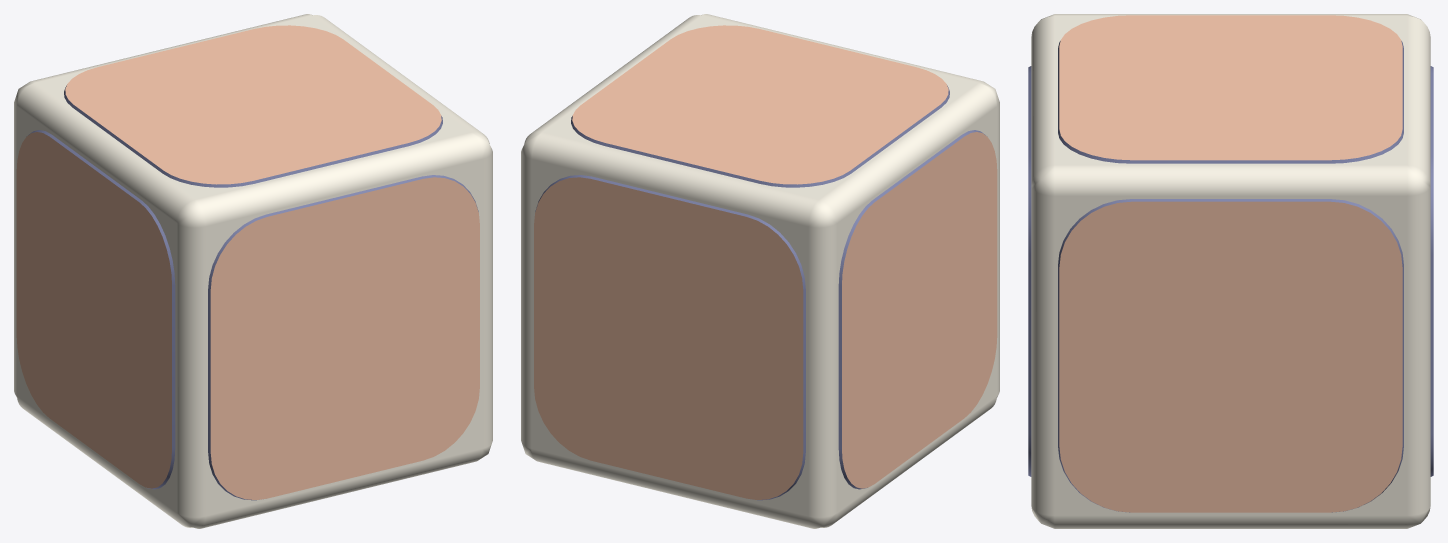
The picture shows the model from 3 angles, left to right: view 1: azimuth 30°, elevation 25°; view 2: azimuth 150°, elevation 25°; view 3: azimuth 270°, elevation 25°; orthographic projection. The views are drawn at different scales.
Parts seen in each view (by area): view 1: R4B_Cube; view 2: R4B_Cube; view 3: R4B_Cube.
Boxes of the visible parts, x1,y1,x2,y2 form: R4B_Cube: (14, 14, 492, 528); R4B_Cube: (521, 14, 999, 528); R4B_Cube: (1028, 14, 1433, 528).
Bounding box in the file's own units: 0.52 × 0.52 × 0.52.
